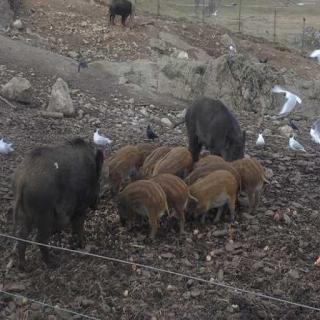Pig: (8, 109, 114, 279), (178, 80, 245, 172), (186, 161, 246, 225), (126, 167, 166, 235), (147, 157, 192, 206), (238, 162, 283, 204), (144, 133, 181, 182), (110, 132, 136, 182)
